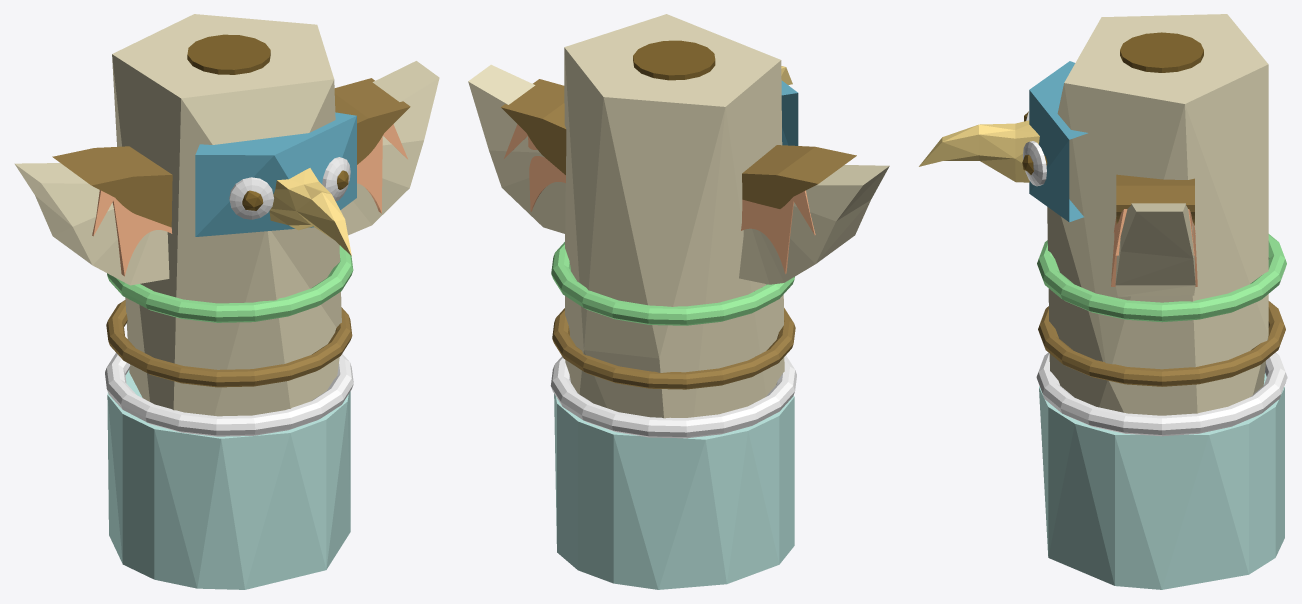
File: eagle.glb
3 views of the same model, side by side, from view 1: azimuth 30°, elevation 25°; view 2: azimuth 150°, elevation 25°; view 3: azimuth 270°, elevation 25° (orthographic).
Visible parts, largest first — view 1: eagle-body.008, eagle-body.006, Cylinder.002, Extrude_1.002, Torus.006, Extrude.008, Torus.007, Extrude.3_1.002, Torus.008, mouse.002, Extrude.006, eagle-body.007 (+4 smaller); view 2: eagle-body.008, eagle-body.006, Extrude_1.002, Extrude.008, Torus.006, Torus.008, Torus.007, Extrude.3_1.002, Extrude.006, eagle-body.007, Extrude.2_1.002, Extrude.007 (+1 smaller); view 3: eagle-body.008, eagle-body.006, Extrude.008, Torus.006, Torus.008, Torus.007, Cylinder.002, mouse.002, eagle-body.007, Extrude.006, Extrude.007, Oil_Tank.005.
Boxes of the visible parts, x1,y1,x2,y2 form: eagle-body.008: (112, 14, 341, 416); eagle-body.006: (107, 370, 350, 589); Cylinder.002: (195, 112, 356, 236); Extrude_1.002: (14, 163, 169, 285); Torus.006: (105, 353, 353, 436); Extrude.008: (340, 61, 439, 235); Torus.007: (106, 300, 352, 387); Extrude.3_1.002: (52, 146, 172, 227); Torus.008: (107, 245, 353, 322); mouse.002: (269, 168, 351, 255); Extrude.006: (334, 78, 410, 164); eagle-body.007: (187, 34, 270, 74); eagle-body.008: (564, 14, 784, 418); eagle-body.006: (554, 394, 794, 589); Extrude_1.002: (739, 165, 889, 284); Extrude.008: (468, 64, 565, 233); Torus.006: (550, 355, 796, 438); Torus.008: (551, 242, 794, 325); Torus.007: (552, 308, 795, 389); Extrude.3_1.002: (742, 145, 856, 208); Extrude.006: (501, 79, 566, 174); eagle-body.007: (633, 40, 715, 80); Extrude.2_1.002: (741, 190, 815, 273); Extrude.007: (504, 124, 565, 211); eagle-body.008: (1047, 14, 1268, 415); eagle-body.006: (1039, 373, 1284, 589); Extrude.008: (1115, 203, 1195, 296); Torus.006: (1036, 352, 1287, 436); Torus.008: (1037, 234, 1286, 322); Torus.007: (1038, 301, 1285, 386); Cylinder.002: (1029, 61, 1087, 222); mouse.002: (919, 120, 1039, 182); eagle-body.007: (1120, 32, 1203, 72); Extrude.006: (1116, 174, 1194, 225); Extrude.007: (1111, 209, 1197, 286); Oil_Tank.005: (1023, 141, 1046, 186).
Bounding box in the file's own units: 2.59 × 3.01 × 2.06.
